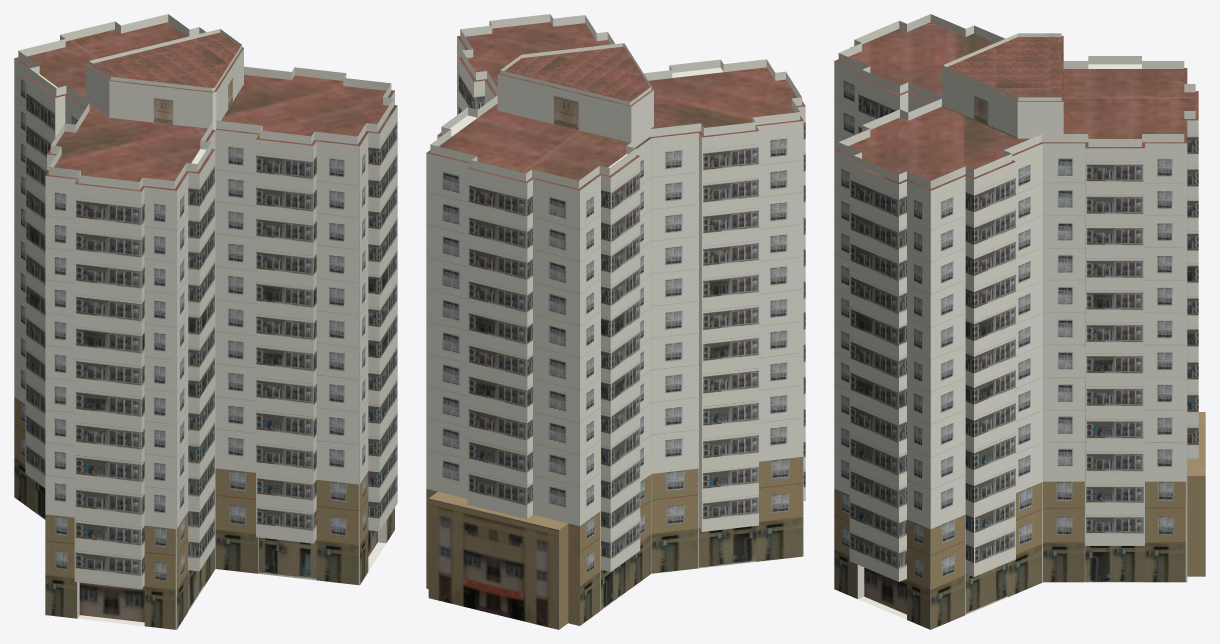
The picture shows the model from 3 angles, left to right: view 1: azimuth 30°, elevation 25°; view 2: azimuth 150°, elevation 25°; view 3: azimuth 270°, elevation 25°; orthographic projection.
Visible parts, largest first — view 1: HN501___B3A_Nam_Trung_Yen.001; view 2: HN501___B3A_Nam_Trung_Yen.001; view 3: HN501___B3A_Nam_Trung_Yen.001.
Part boxes in pixels (box(x1,y1,x2,y2)): HN501___B3A_Nam_Trung_Yen.001: box(14, 14, 397, 629); HN501___B3A_Nam_Trung_Yen.001: box(426, 14, 805, 629); HN501___B3A_Nam_Trung_Yen.001: box(834, 14, 1205, 629).
Size of the model in its own units: 43.19 by 56.57 by 39.71.
Materials: 1 (1 with a texture image).
